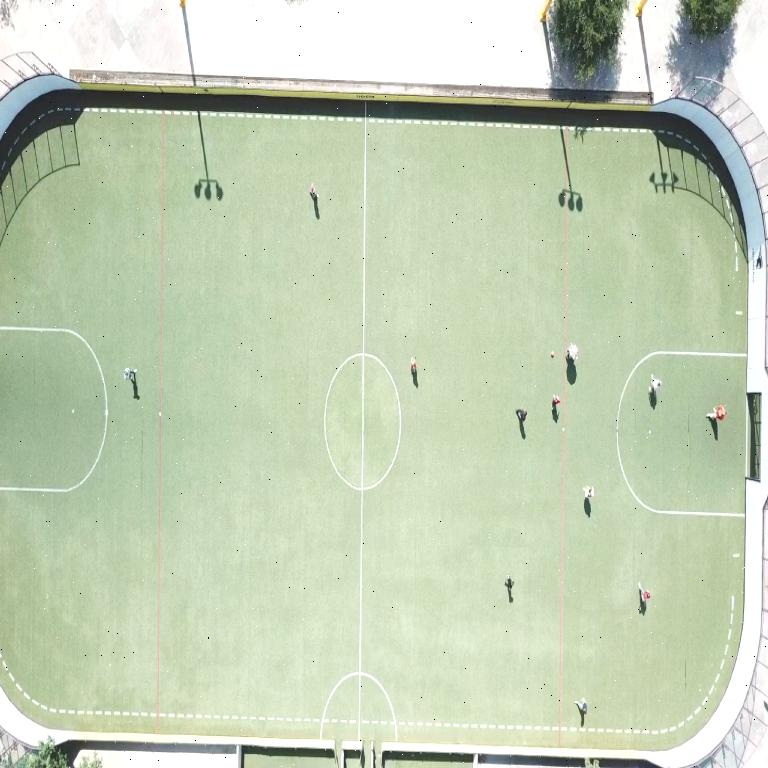AC: (0, 324, 109, 491)
B: (550, 349, 553, 359)
MC: (360, 105, 370, 737)
P: (708, 406, 727, 424)
